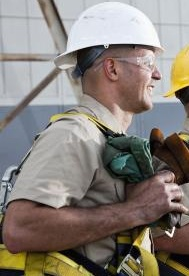hard-hat: (52, 1, 163, 70)
ppe-suit: (138, 81, 189, 275)
vest: (1, 99, 185, 276)
